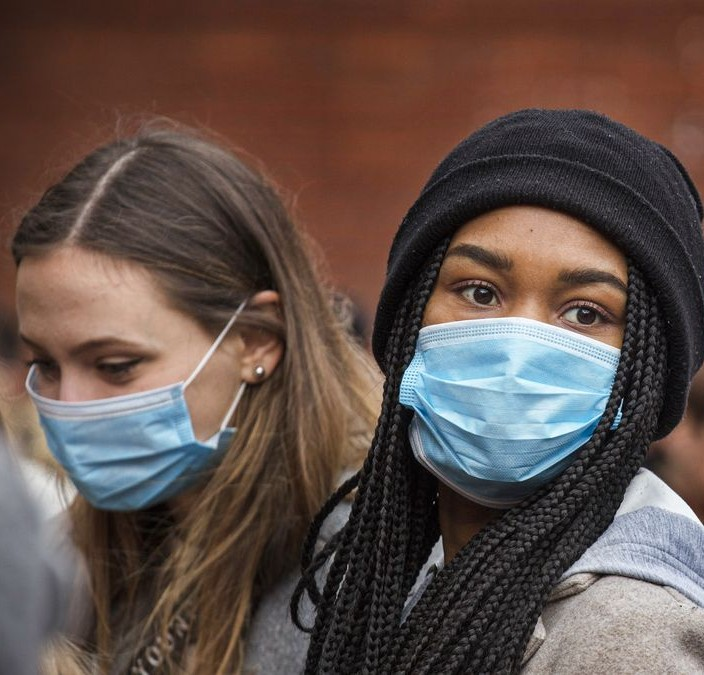with_mask: (391, 191, 667, 515), (9, 245, 290, 523)
